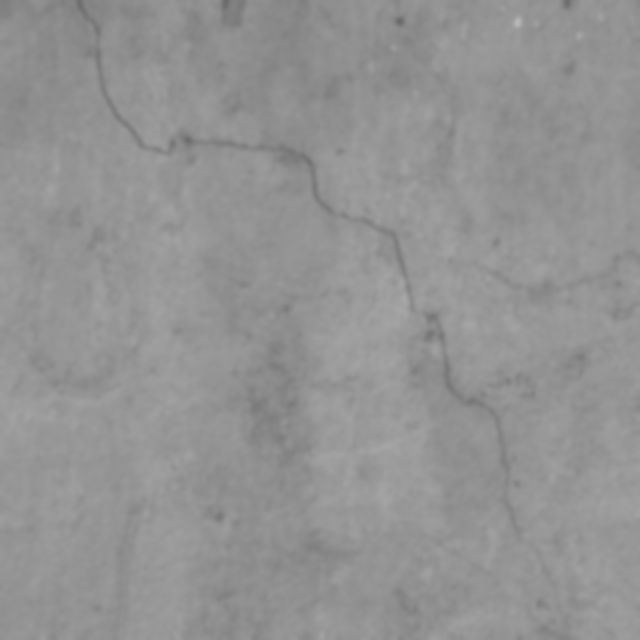SurfaceCrack: (1, 0, 639, 637)
